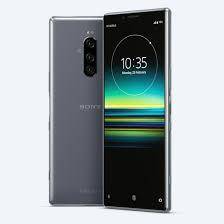Smartphone: (103, 5, 168, 210), (51, 17, 105, 203)
